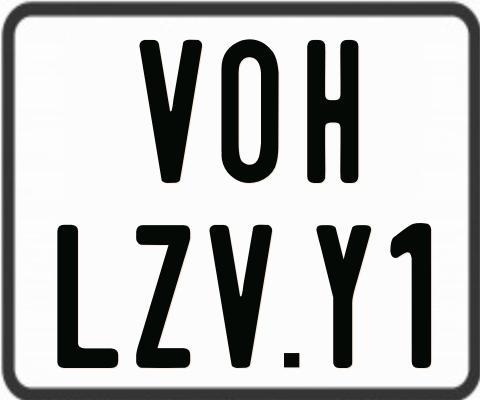0: (220, 36, 283, 183)
1: (390, 220, 434, 365)
H: (307, 40, 364, 188)
L: (56, 225, 120, 369)
V: (140, 39, 206, 188), (208, 224, 275, 368)
Y: (314, 224, 372, 368)
Z: (134, 222, 188, 366)
